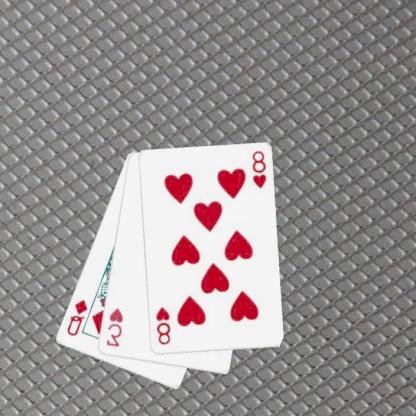3H: (105, 306, 126, 348)
8H: (250, 148, 270, 190), (155, 304, 173, 347)
QD: (66, 296, 90, 338)
